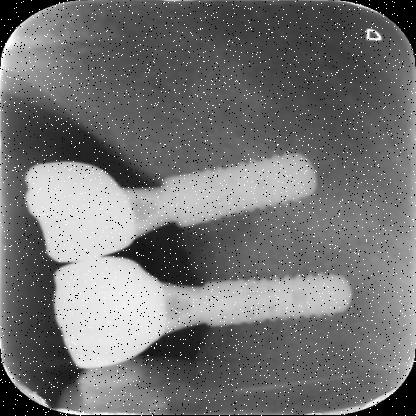ITI: (190, 244, 386, 372), (156, 146, 326, 232)
